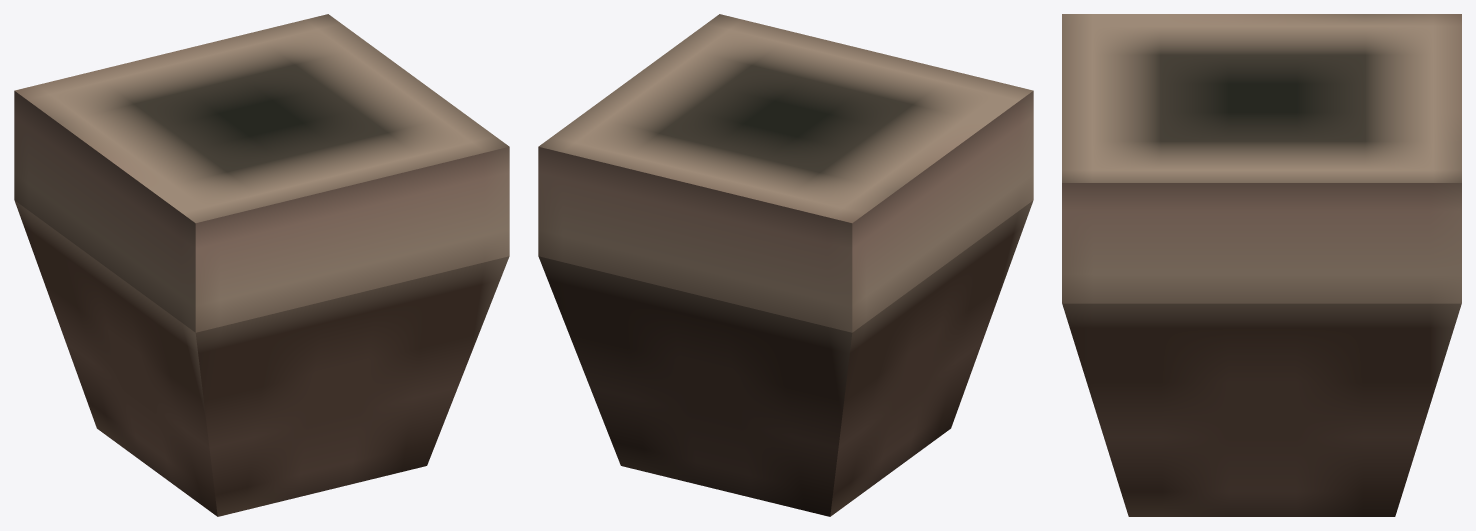
Rendered from vase_05.fbx.
The picture shows the model from 3 angles, left to right: view 1: azimuth 30°, elevation 25°; view 2: azimuth 150°, elevation 25°; view 3: azimuth 270°, elevation 25°; orthographic projection. The views are drawn at different scales.
Parts seen in each view (by area): view 1: vase_05; view 2: vase_05; view 3: vase_05.
Part boxes in pixels (x1,y1,x2,y2): vase_05: [14, 14, 509, 516]; vase_05: [538, 14, 1033, 516]; vase_05: [1062, 14, 1461, 516].
Size of the model in its own units: 6 by 6 by 6.
